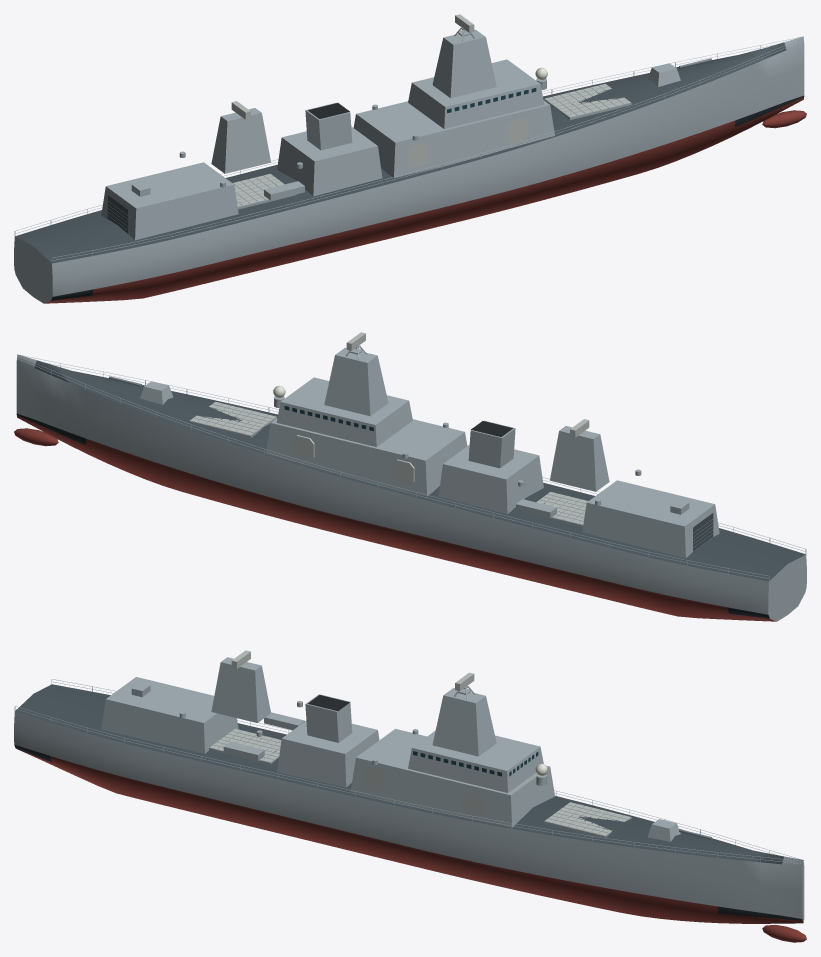
The model's file is pla_ddg_type052d.glb.
The picture shows the model from 3 angles, top to bottom: view 1: azimuth 30°, elevation 25°; view 2: azimuth 150°, elevation 25°; view 3: azimuth 330°, elevation 25°; orthographic projection.
Visible parts, largest first — view 1: naval_paint, antifouling, deck_non_skid, array_face, boot_topping; view 2: naval_paint, antifouling, deck_non_skid, array_face, boot_topping; view 3: naval_paint, antifouling, deck_non_skid, array_face, boot_topping.
Part boxes in pixels (x1=…): naval_paint: x1=14, y1=27, x2=804, y2=303; antifouling: x1=44, y1=97, x2=806, y2=303; deck_non_skid: x1=15, y1=42, x2=786, y2=263; array_face: x1=231, y1=14, x2=630, y2=206; boot_topping: x1=51, y1=95, x2=804, y2=300; naval_paint: x1=16, y1=345, x2=806, y2=621; antifouling: x1=14, y1=415, x2=776, y2=621; deck_non_skid: x1=34, y1=360, x2=805, y2=581; array_face: x1=190, y1=332, x2=589, y2=524; boot_topping: x1=16, y1=413, x2=769, y2=618; naval_paint: x1=14, y1=657, x2=804, y2=923; antifouling: x1=17, y1=749, x2=806, y2=942; deck_non_skid: x1=15, y1=684, x2=783, y2=864; array_face: x1=209, y1=650, x2=630, y2=835; boot_topping: x1=14, y1=745, x2=802, y2=920.
Size of the model in its own units: 10 by 2.34 by 1.14.
